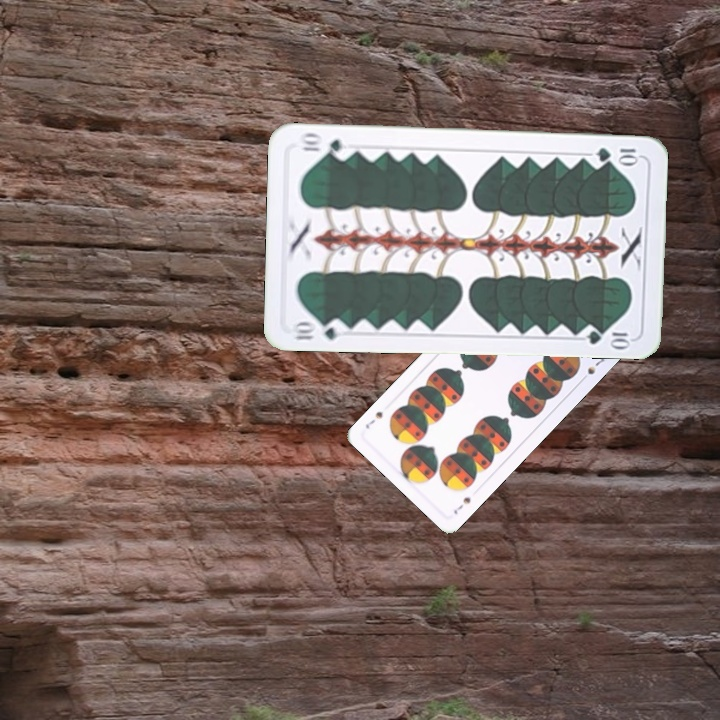G10: (288, 316, 348, 343), (593, 144, 642, 165)
S7: (449, 493, 473, 517)
